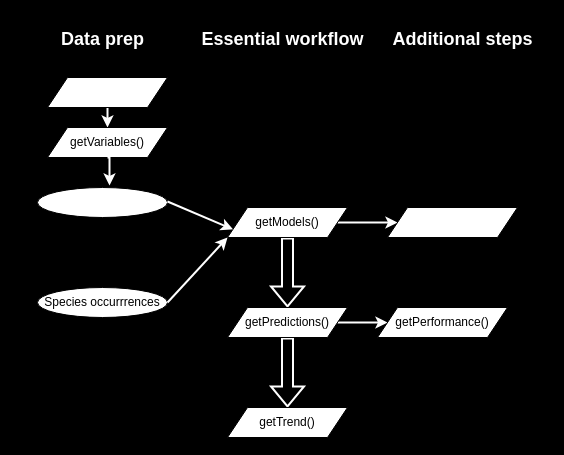
Image size: 564x455. Some labels were removed from this diagram. The centre of each missing label's shape, as x and y in pixels:
"getImportance()" goes at (452,222).
"Predictor variables" goes at (102,202).
"varsAvailable()" goes at (107,92).
